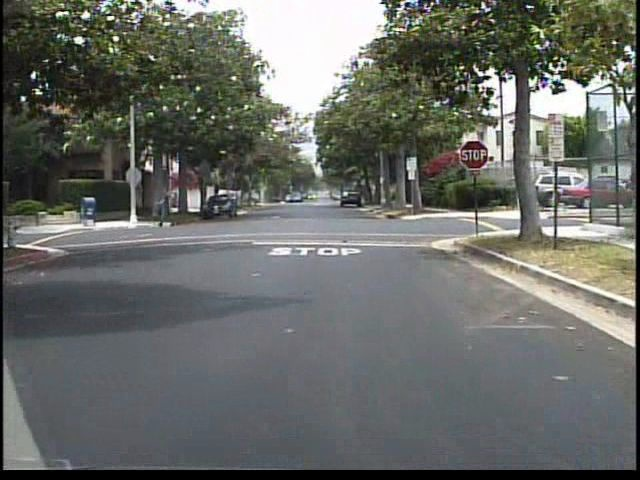person: (155, 180, 179, 230)
